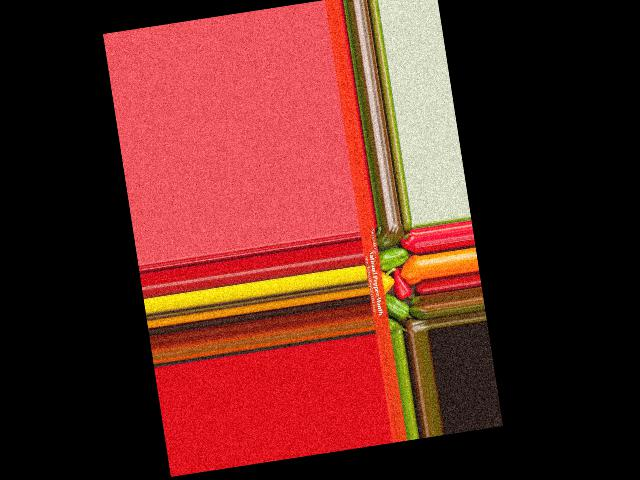bell_pepper: (374, 223, 405, 249)
